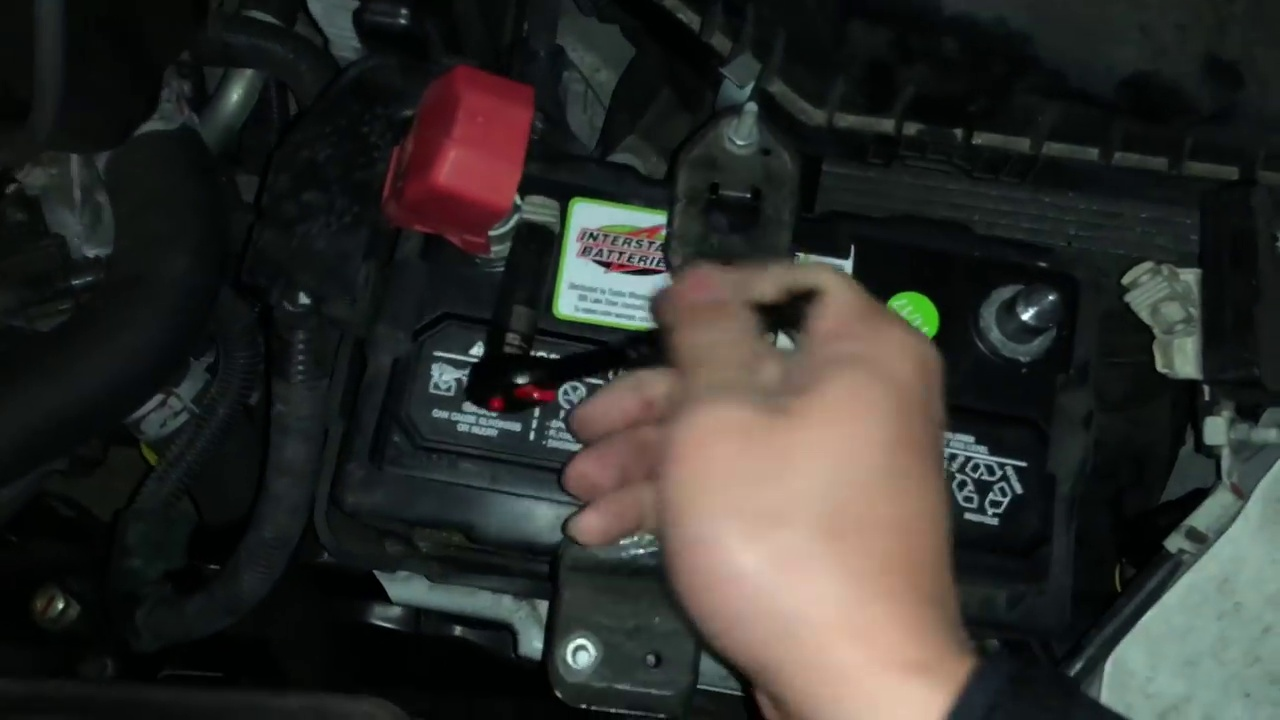battery: (364, 142, 1071, 570)
neg_disconnected: (971, 237, 1080, 391)
pos_connected: (387, 102, 573, 305)
